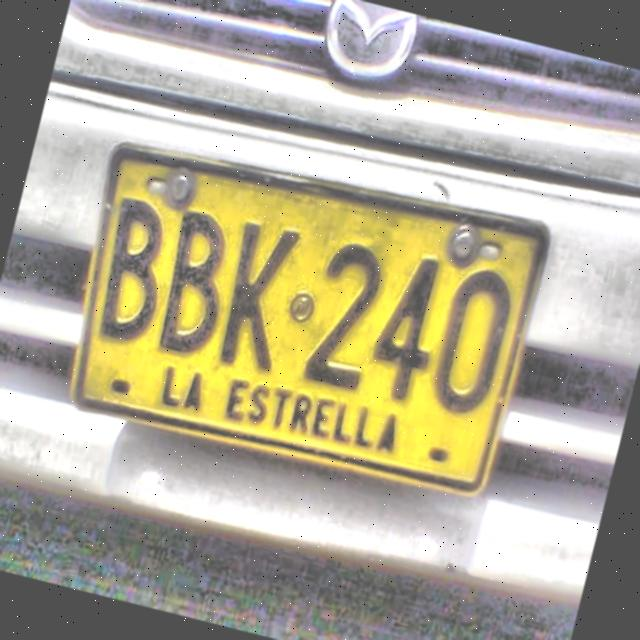0: (424, 261, 520, 421)
2: (296, 234, 398, 396)
4: (367, 250, 446, 407)
B: (151, 206, 230, 362), (96, 194, 167, 351)
K: (216, 217, 305, 376)
